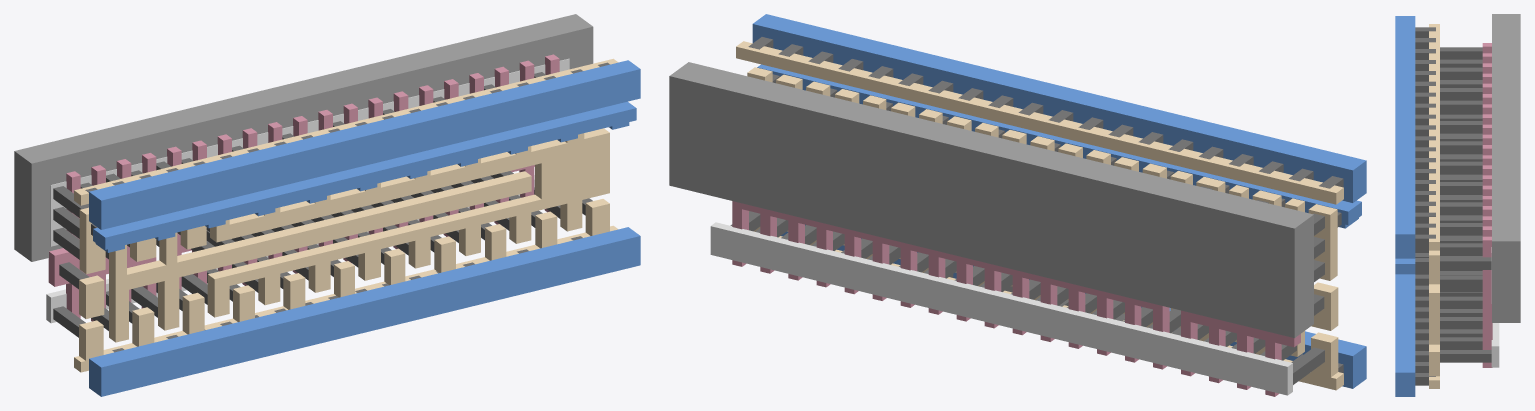
File: sky130_fd_sc_hd__lpflow_clkbufkapwr_16.gds.gltf
3 views of the same model, side by side, from view 1: azimuth 30°, elevation 25°; view 2: azimuth 150°, elevation 25°; view 3: azimuth 270°, elevation 25° (orthographic). The views are drawn at different scales.
Visible parts, largest first — view 1: sky130_fd_sc_hd__lpflow_clkbufkapwr_16_met1, sky130_fd_sc_hd__lpflow_clkbufkapwr_16_li1, sky130_fd_sc_hd__lpflow_clkbufkapwr_16_nwell, sky130_fd_sc_hd__lpflow_clkbufkapwr_16_poly, sky130_fd_sc_hd__lpflow_clkbufkapwr_16_licon, sky130_fd_sc_hd__lpflow_clkbufkapwr_16_diff, sky130_fd_sc_hd__lpflow_clkbufkapwr_16_mcon; view 2: sky130_fd_sc_hd__lpflow_clkbufkapwr_16_nwell, sky130_fd_sc_hd__lpflow_clkbufkapwr_16_met1, sky130_fd_sc_hd__lpflow_clkbufkapwr_16_li1, sky130_fd_sc_hd__lpflow_clkbufkapwr_16_diff, sky130_fd_sc_hd__lpflow_clkbufkapwr_16_poly, sky130_fd_sc_hd__lpflow_clkbufkapwr_16_licon, sky130_fd_sc_hd__lpflow_clkbufkapwr_16_mcon; view 3: sky130_fd_sc_hd__lpflow_clkbufkapwr_16_licon, sky130_fd_sc_hd__lpflow_clkbufkapwr_16_nwell, sky130_fd_sc_hd__lpflow_clkbufkapwr_16_met1, sky130_fd_sc_hd__lpflow_clkbufkapwr_16_mcon, sky130_fd_sc_hd__lpflow_clkbufkapwr_16_li1, sky130_fd_sc_hd__lpflow_clkbufkapwr_16_poly, sky130_fd_sc_hd__lpflow_clkbufkapwr_16_diff.
Part boxes in pixels (<box>): sky130_fd_sc_hd__lpflow_clkbufkapwr_16_met1: <box>89,60,640,396</box>; sky130_fd_sc_hd__lpflow_clkbufkapwr_16_li1: <box>74,58,618,372</box>; sky130_fd_sc_hd__lpflow_clkbufkapwr_16_nwell: <box>14,14,593,261</box>; sky130_fd_sc_hd__lpflow_clkbufkapwr_16_poly: <box>48,54,559,321</box>; sky130_fd_sc_hd__lpflow_clkbufkapwr_16_licon: <box>53,72,592,337</box>; sky130_fd_sc_hd__lpflow_clkbufkapwr_16_diff: <box>46,58,569,323</box>; sky130_fd_sc_hd__lpflow_clkbufkapwr_16_mcon: <box>85,62,609,352</box>; sky130_fd_sc_hd__lpflow_clkbufkapwr_16_nwell: <box>669,62,1313,337</box>; sky130_fd_sc_hd__lpflow_clkbufkapwr_16_met1: <box>752,14,1366,388</box>; sky130_fd_sc_hd__lpflow_clkbufkapwr_16_li1: <box>736,41,1343,390</box>; sky130_fd_sc_hd__lpflow_clkbufkapwr_16_diff: <box>710,222,1292,395</box>; sky130_fd_sc_hd__lpflow_clkbufkapwr_16_poly: <box>732,201,1300,396</box>; sky130_fd_sc_hd__lpflow_clkbufkapwr_16_licon: <box>730,186,1324,384</box>; sky130_fd_sc_hd__lpflow_clkbufkapwr_16_mcon: <box>748,37,1343,373</box>; sky130_fd_sc_hd__lpflow_clkbufkapwr_16_licon: <box>1440,47,1491,362</box>; sky130_fd_sc_hd__lpflow_clkbufkapwr_16_nwell: <box>1492,14,1520,322</box>; sky130_fd_sc_hd__lpflow_clkbufkapwr_16_met1: <box>1395,16,1415,396</box>; sky130_fd_sc_hd__lpflow_clkbufkapwr_16_mcon: <box>1415,27,1435,385</box>; sky130_fd_sc_hd__lpflow_clkbufkapwr_16_li1: <box>1429,24,1439,388</box>; sky130_fd_sc_hd__lpflow_clkbufkapwr_16_poly: <box>1482,43,1492,367</box>; sky130_fd_sc_hd__lpflow_clkbufkapwr_16_diff: <box>1491,247,1499,367</box>.
Bounding box in the file's own units: 9.58 × 3.2 × 2.24.
